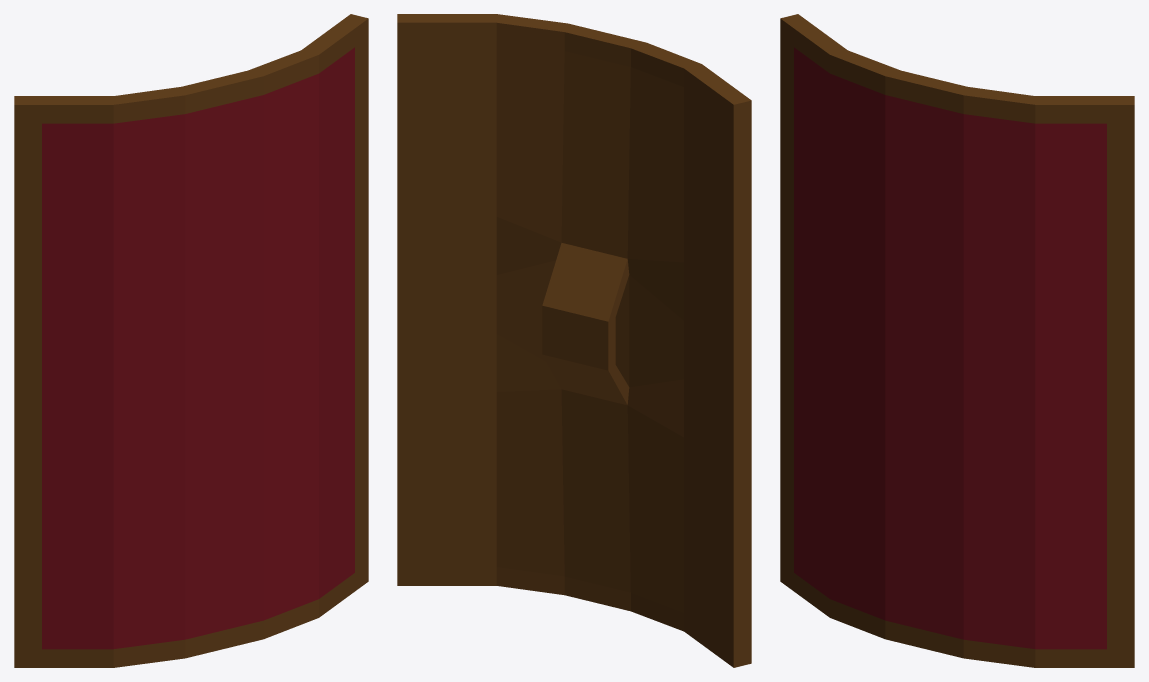
The model's file is CrimsonSquareShield.glb.
3 views of the same model, side by side, from view 1: azimuth 30°, elevation 25°; view 2: azimuth 150°, elevation 25°; view 3: azimuth 330°, elevation 25° (orthographic).
Parts seen in each view (by area): view 1: SqShield; view 2: SqShield; view 3: SqShield.
Boxes of the visible parts, <box> form: SqShield: <box>14,14,368,667</box>; SqShield: <box>397,14,751,667</box>; SqShield: <box>780,14,1134,667</box>.
Bounding box in the file's own units: 0.3953 × 0.6 × 0.0811.
